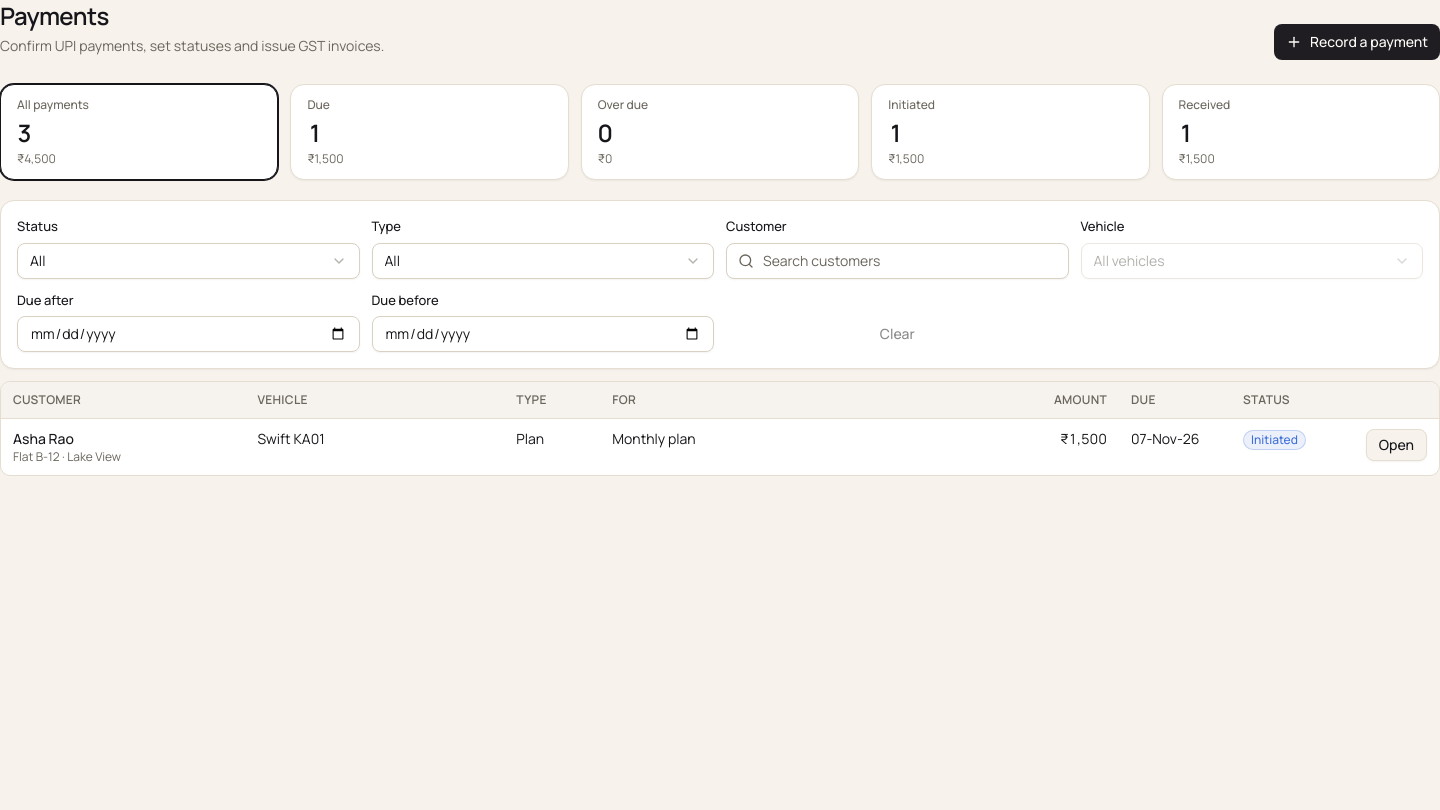
Scenario: payments page › confirms an Initiated payment after asking
This screenshot has width=1440, height=810.
Click the button "Open" at (1396, 444), box [1366,428,1427,460]
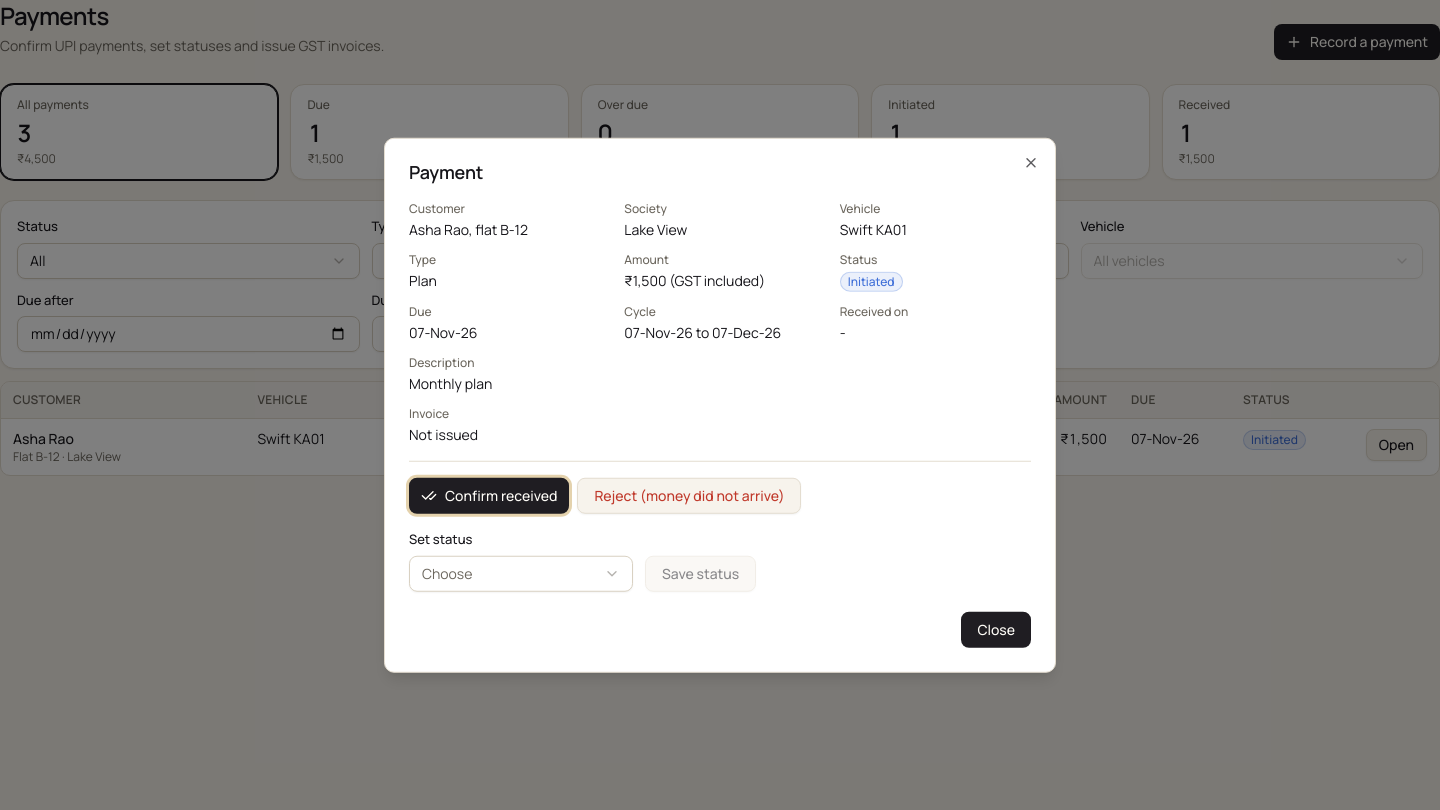
Click the button "Confirm received" at (489, 496), box [409,478,569,514]
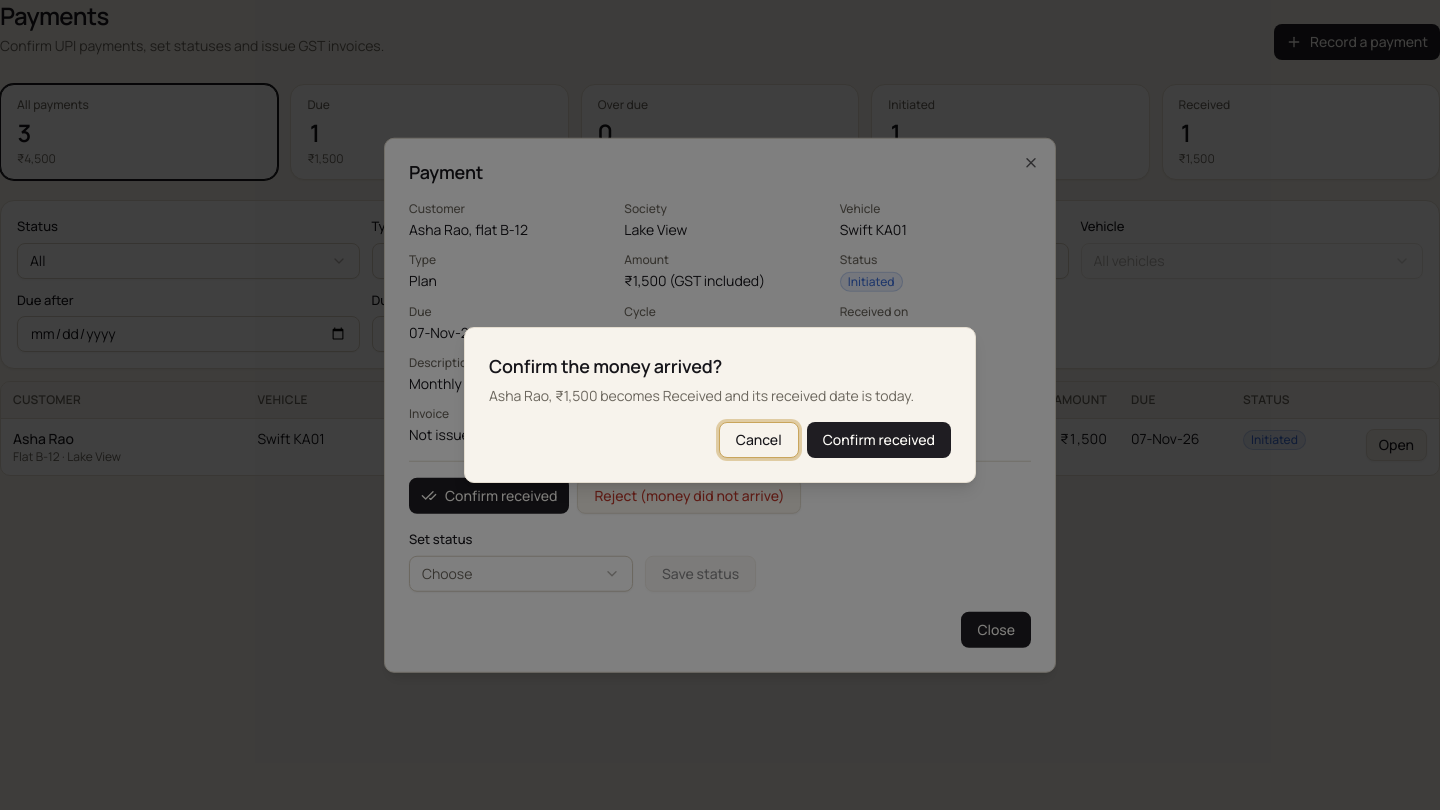
Click the button "Confirm received" at (879, 440), box [807,422,951,458]
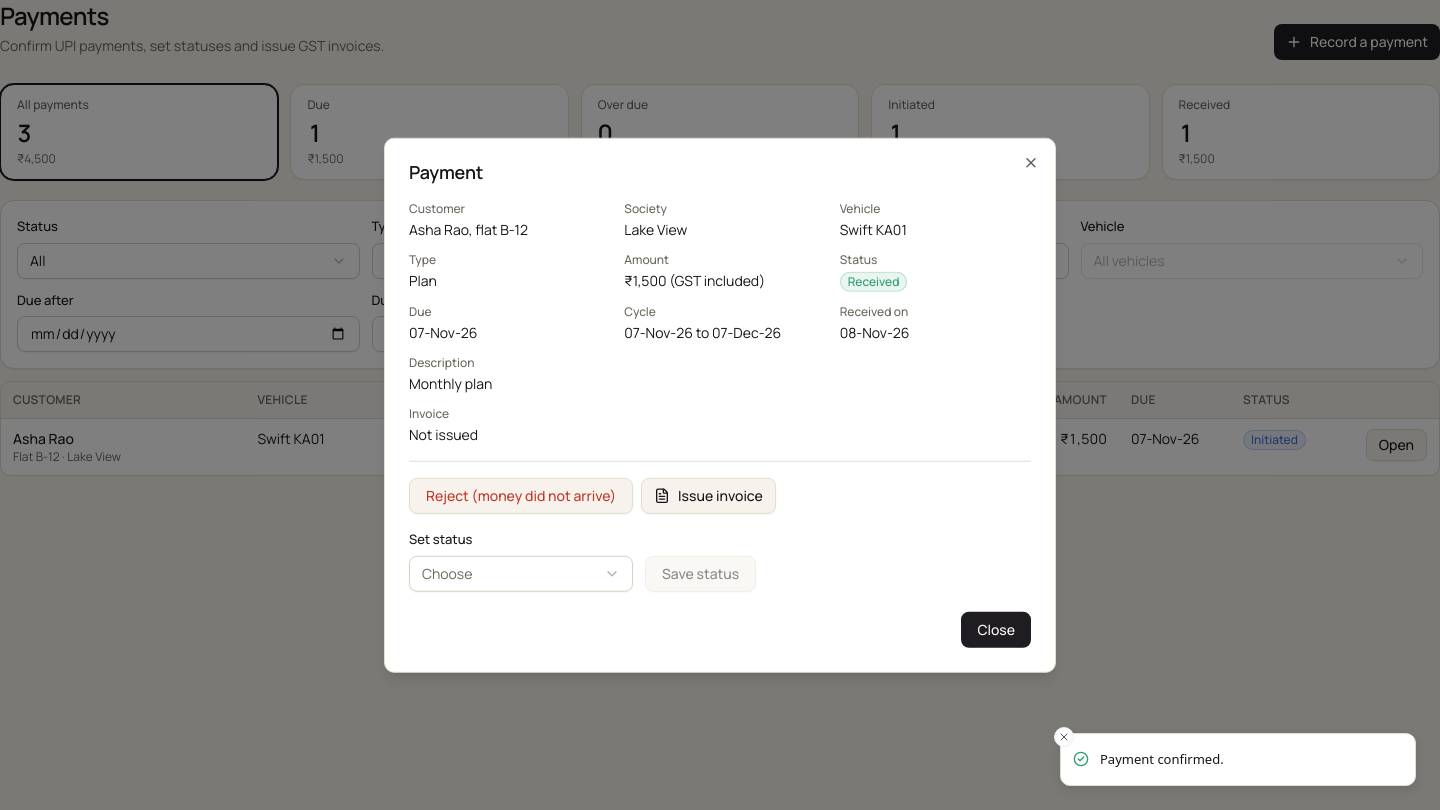
Expected: the button "Issue invoice" is shown, [641,478,776,514]
